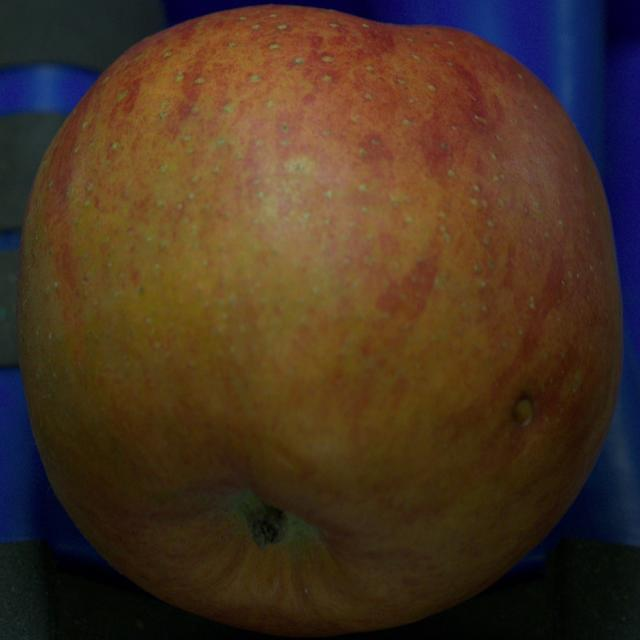apple: (16, 5, 622, 636)
pest: (514, 398, 533, 426)
